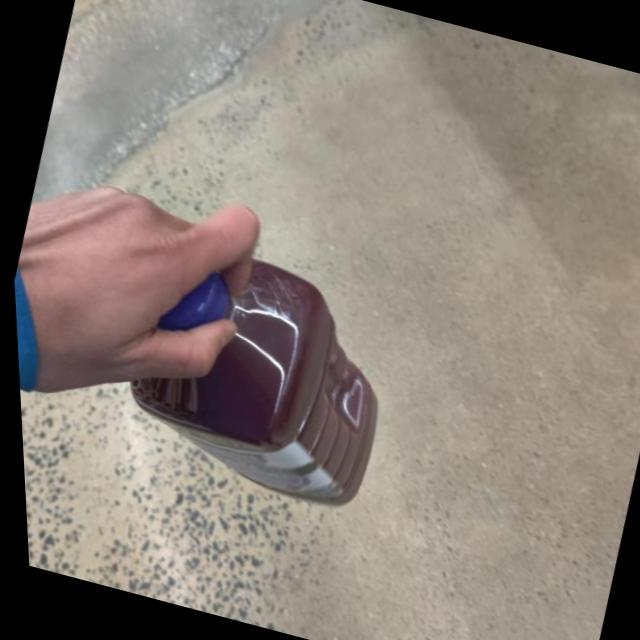Juice: (66, 204, 436, 534)
